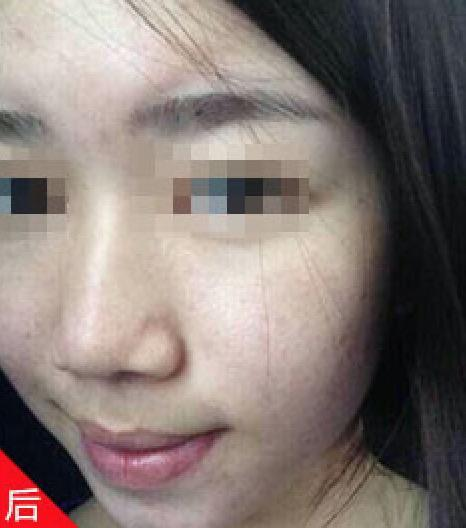fore: (218, 498, 237, 507)
